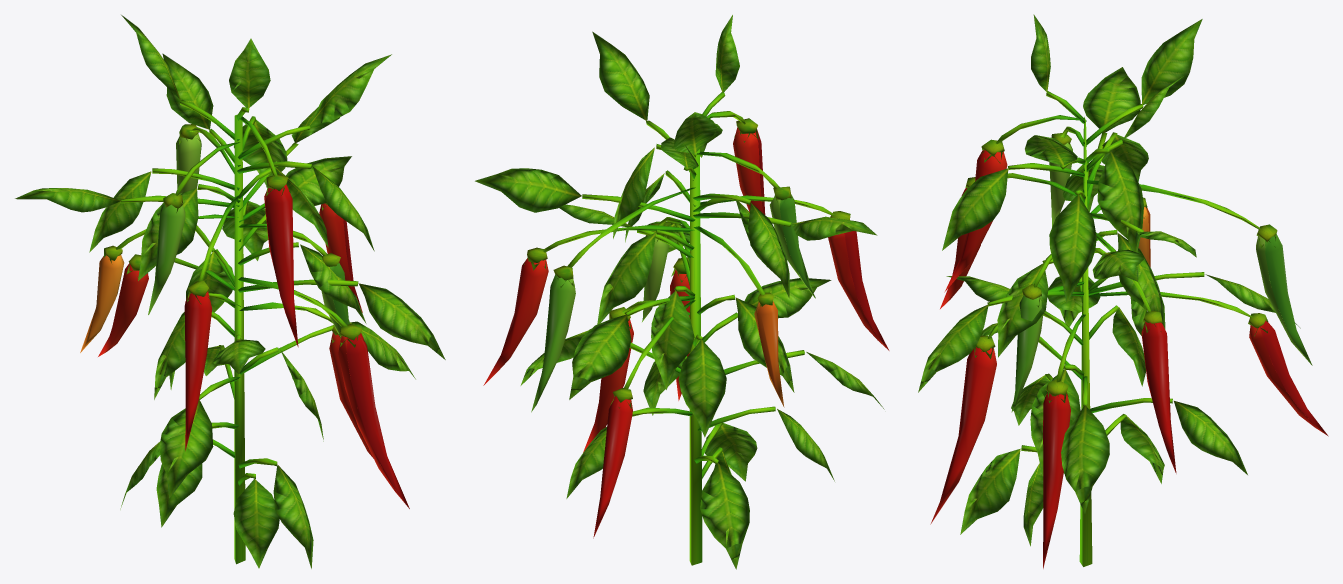
Rendered from NP_ChiliPepper_Ready_LOD1.fbx.
3 views of the same model, side by side, from view 1: azimuth 30°, elevation 25°; view 2: azimuth 150°, elevation 25°; view 3: azimuth 270°, elevation 25° (orthographic). The views are drawn at different scales.
Parts seen in each view (by area): view 1: NP_ChiliPepper_Ready; view 2: NP_ChiliPepper_Ready; view 3: NP_ChiliPepper_Ready.
Boxes of the visible parts, x1,y1,x2,y2 form: NP_ChiliPepper_Ready: [15, 15, 445, 568]; NP_ChiliPepper_Ready: [475, 15, 889, 569]; NP_ChiliPepper_Ready: [918, 14, 1328, 568].
Size of the model in its own units: 91.22 by 124 by 84.8.
